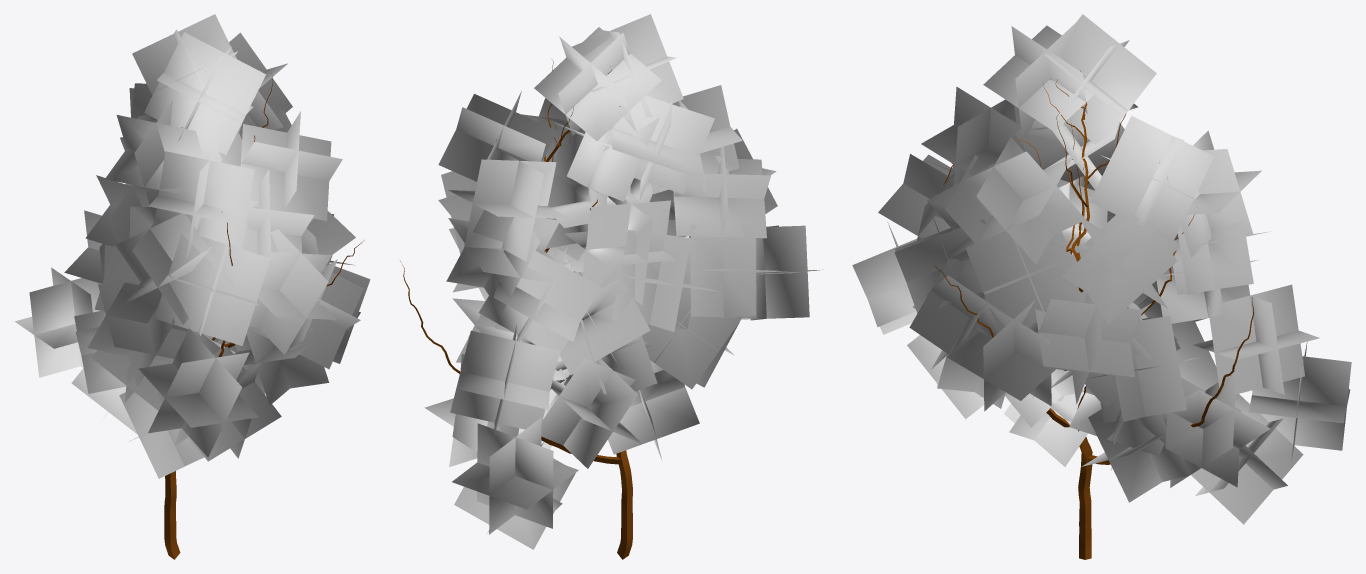
Rendered from tree3_LOD2.fbx.
3 views of the same model, side by side, from view 1: azimuth 30°, elevation 25°; view 2: azimuth 150°, elevation 25°; view 3: azimuth 270°, elevation 25° (orthographic). The views are drawn at different scales.
Parts seen in each view (by area): view 1: transform1; view 2: transform1; view 3: transform1.
Boxes of the visible parts, x1,y1,x2,y2 form: transform1: (14,14,370,559); transform1: (400,14,822,559); transform1: (852,14,1351,559).
Bounding box in the file's own units: 505 × 906 × 751.
